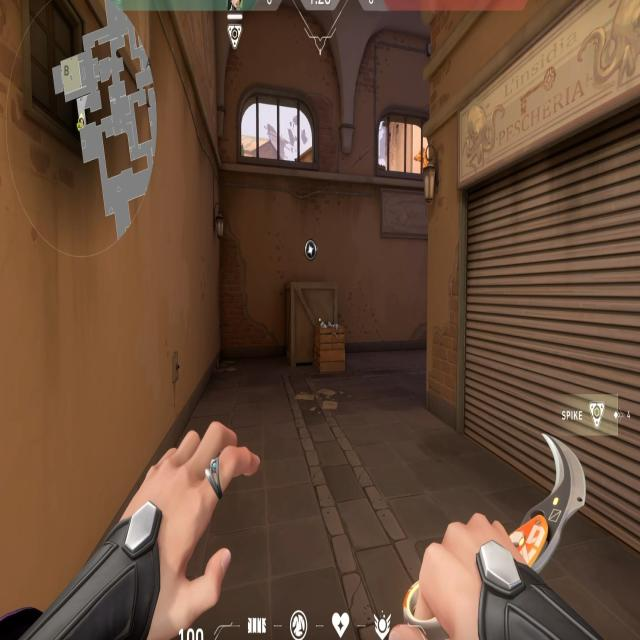B_Main_Wallbang: (274, 232, 356, 389)
Throwables: (223, 78, 329, 188), (373, 101, 432, 199)
